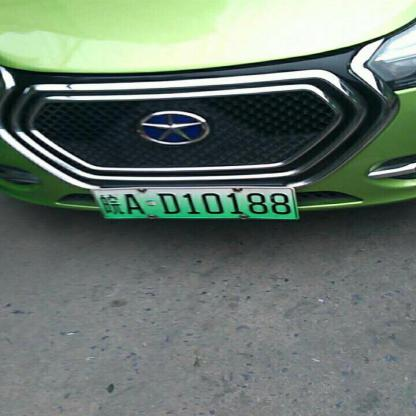lp: (90, 187, 295, 219)
